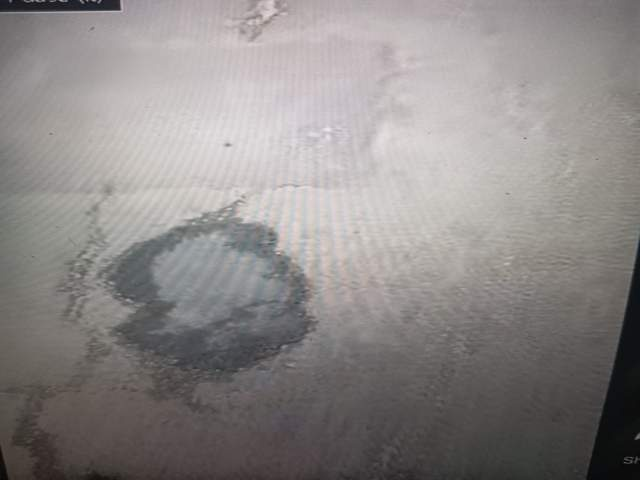pothole: (123, 403, 346, 480)
